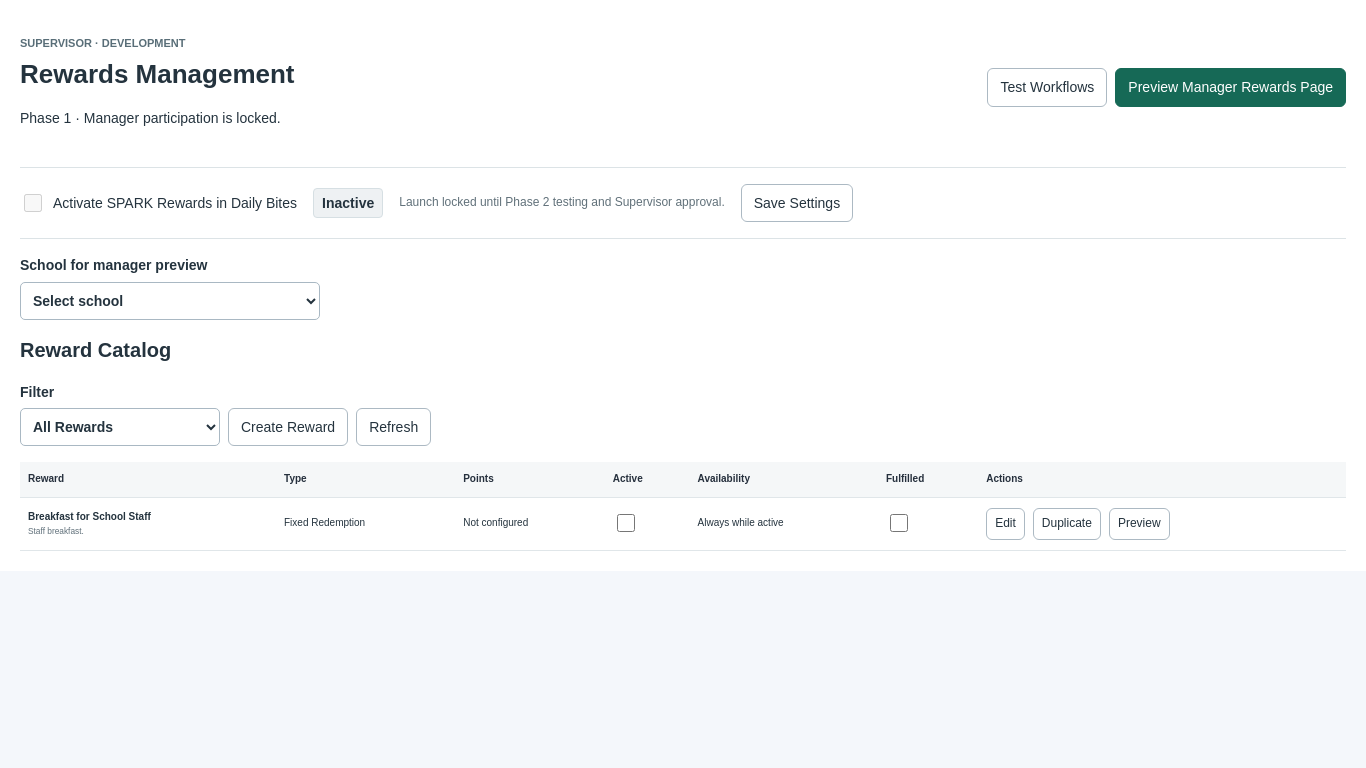
Supervisor can edit configuration while activation stays locked
Check: the checkbox labelled "Activate SPARK Rewards in Daily Bites" is disabled, box [24, 194, 42, 212]
Click the button "Edit": {"x": 1006, "y": 524} [986, 508, 1025, 540]
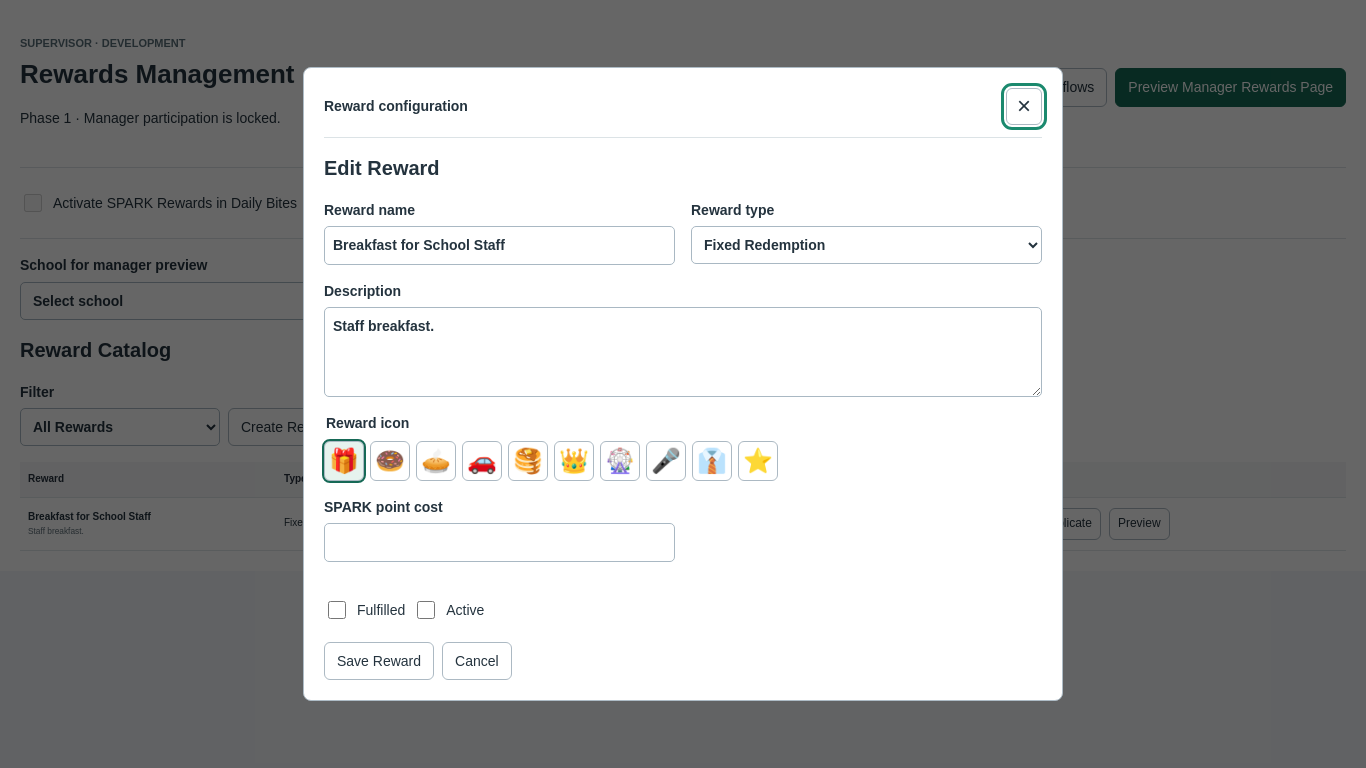
Check: the form with class "sr-editor" is shown
Submit the form with class "sr-editor", box [324, 154, 1042, 680]
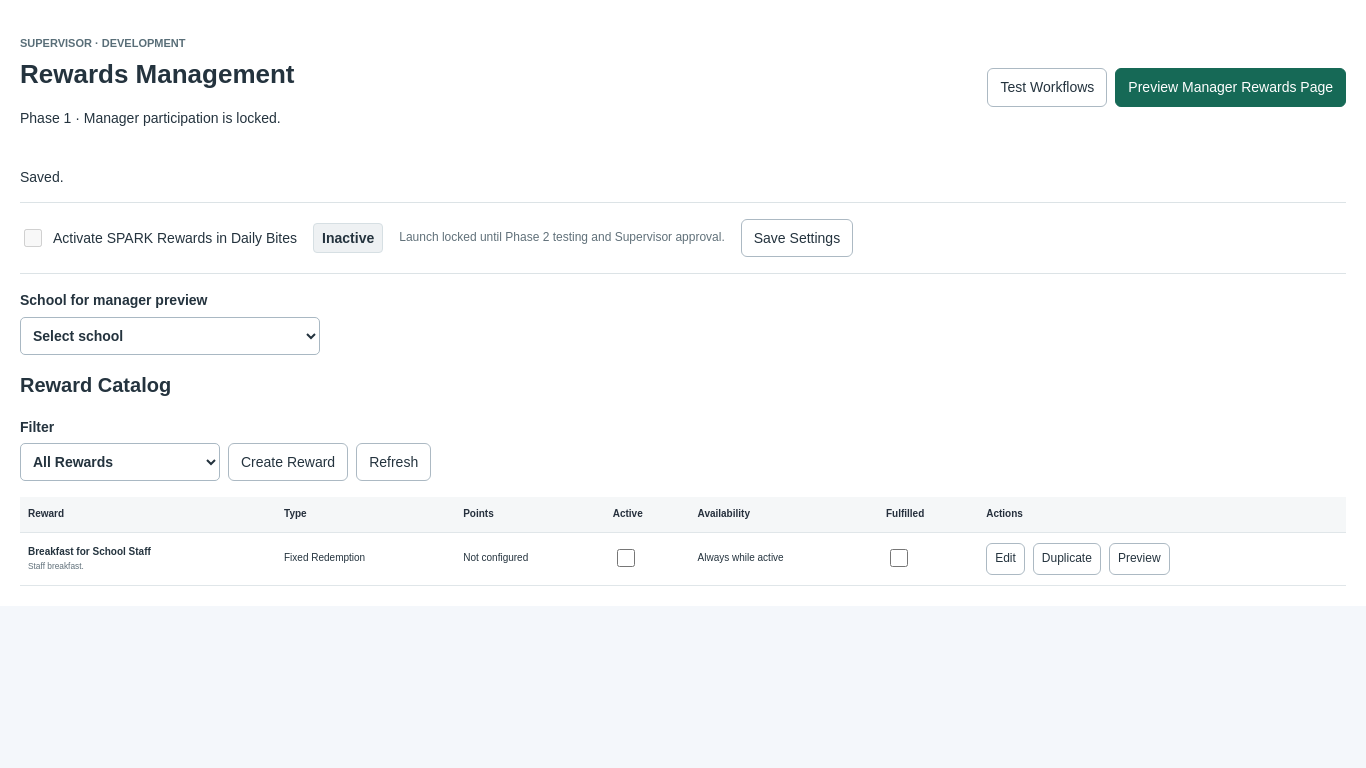
Check: the dialog is gone
